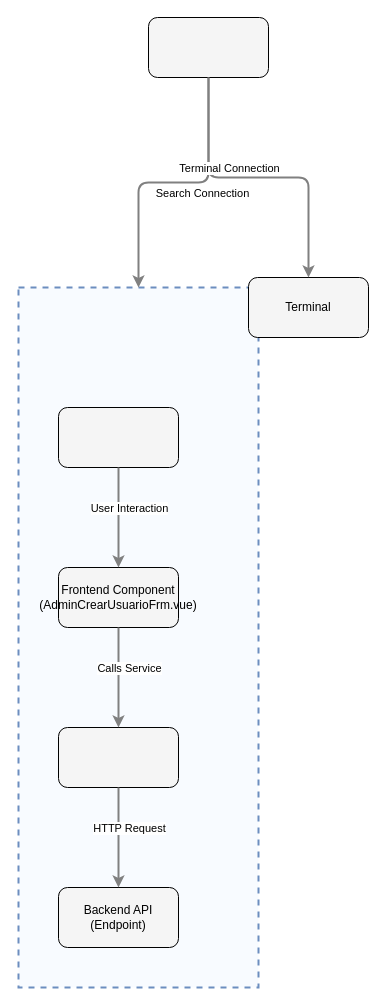
Image size: 386x1006. Some labels were removed from this diagram. Each missing label, with the centre of its shape:
"Backend Service (adminService.js)" goes at (118,757).
"VS Code Host (Context)" goes at (118,437).
